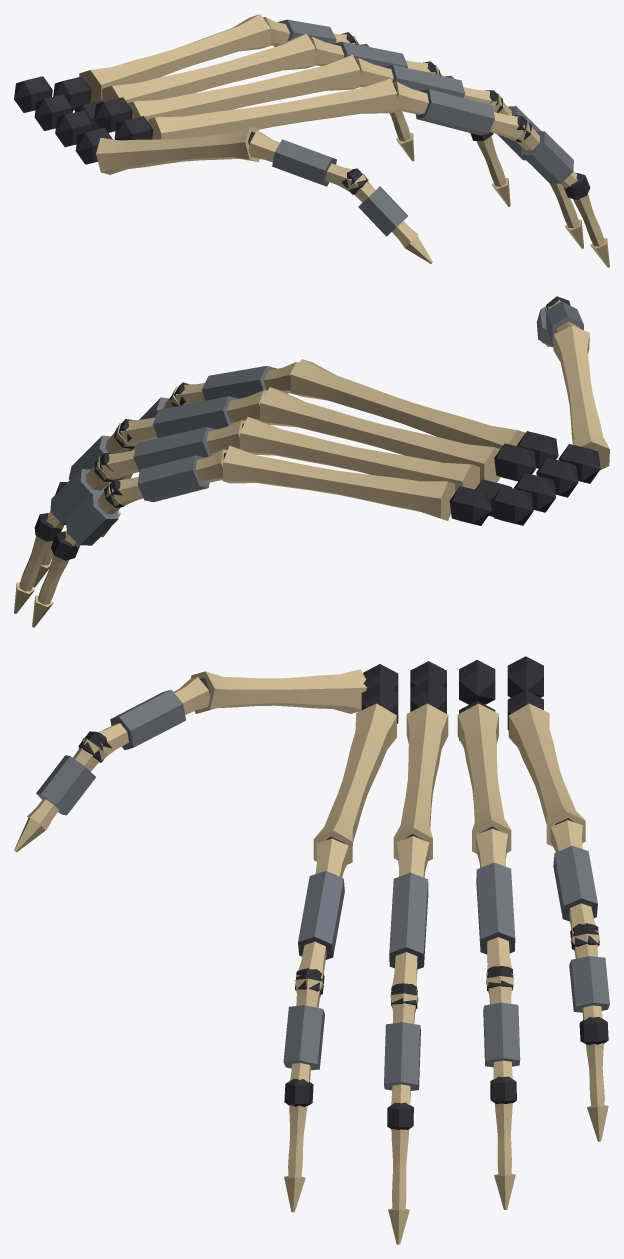
Rendered from cc_hand.glb.
The picture shows the model from 3 angles, top to bottom: view 1: azimuth 30°, elevation 25°; view 2: azimuth 150°, elevation 25°; view 3: azimuth 270°, elevation 25°; orthographic projection. The views are drawn at different scales.
Visible parts, largest first — view 1: teil0, teil2, teil1; view 2: teil0, teil2, teil1; view 3: teil0, teil2, teil1.
Boxes of the visible parts, x1,y1,x2,y2 form: teil0: [79, 14, 609, 267]; teil2: [272, 19, 573, 236]; teil1: [14, 32, 590, 199]; teil0: [14, 300, 609, 627]; teil2: [50, 301, 583, 545]; teil1: [34, 296, 600, 560]; teil0: [14, 669, 608, 1244]; teil2: [36, 689, 609, 1090]; teil1: [78, 656, 608, 1129].
Bounding box in the file's own units: 0.4305 × 0.2253 × 0.364.
